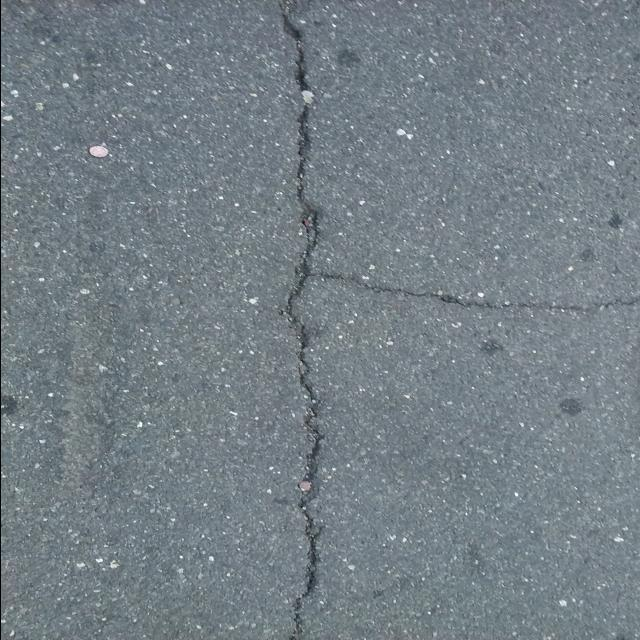Crack: (276, 0, 640, 640)
